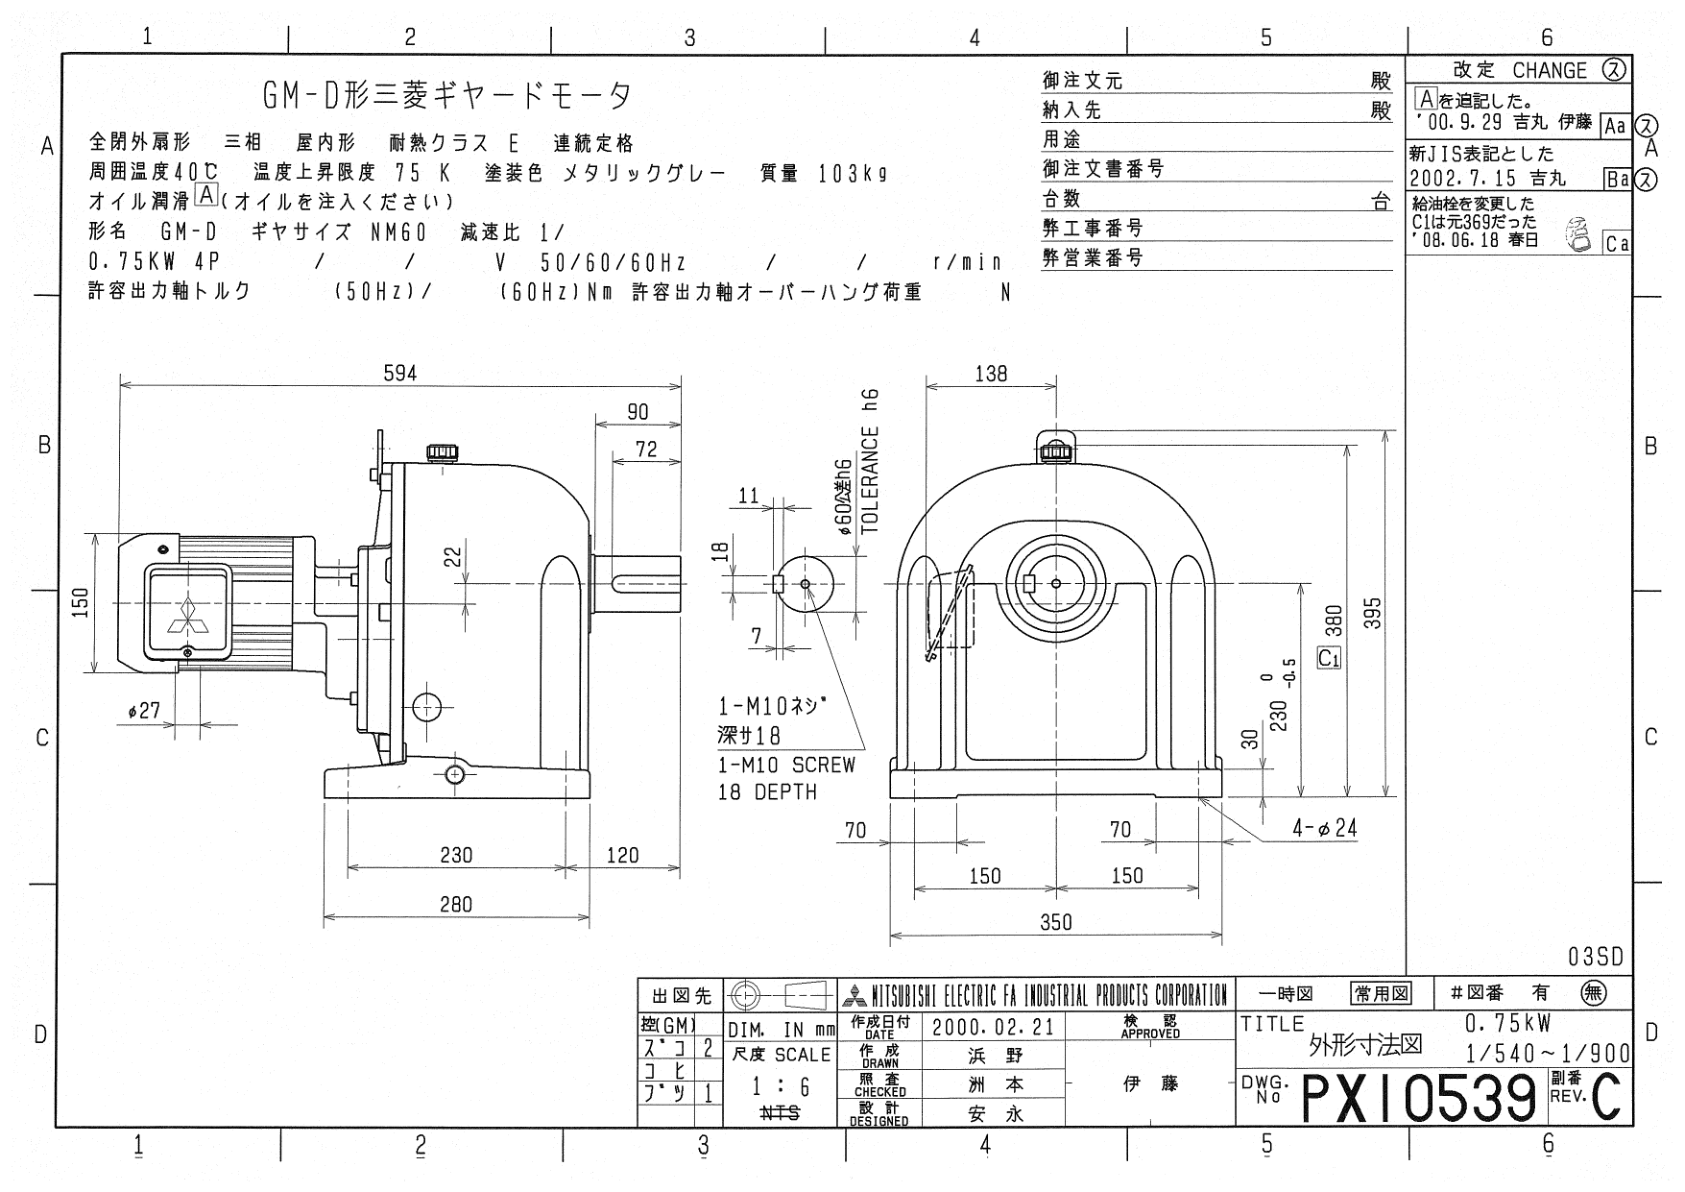GM_D_屋内＿三相_脚: (19, 5, 1685, 1192)
